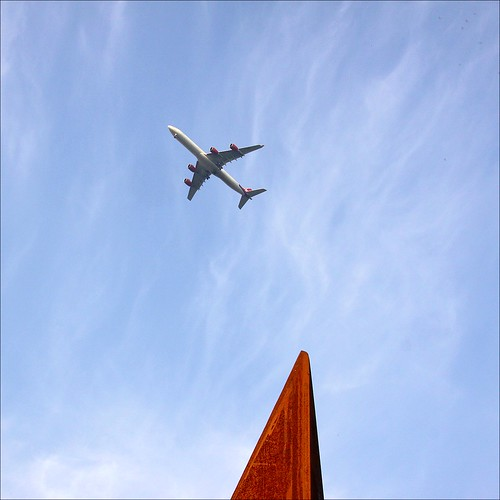plane: (151, 87, 279, 238)
sky: (9, 1, 500, 496)
